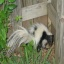skunk: (21, 27, 54, 49)
